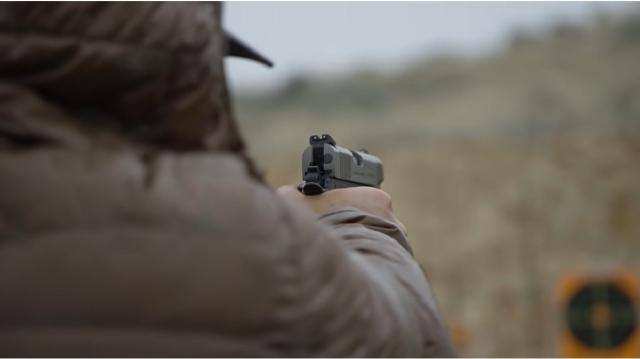handgun: (294, 130, 388, 210)
